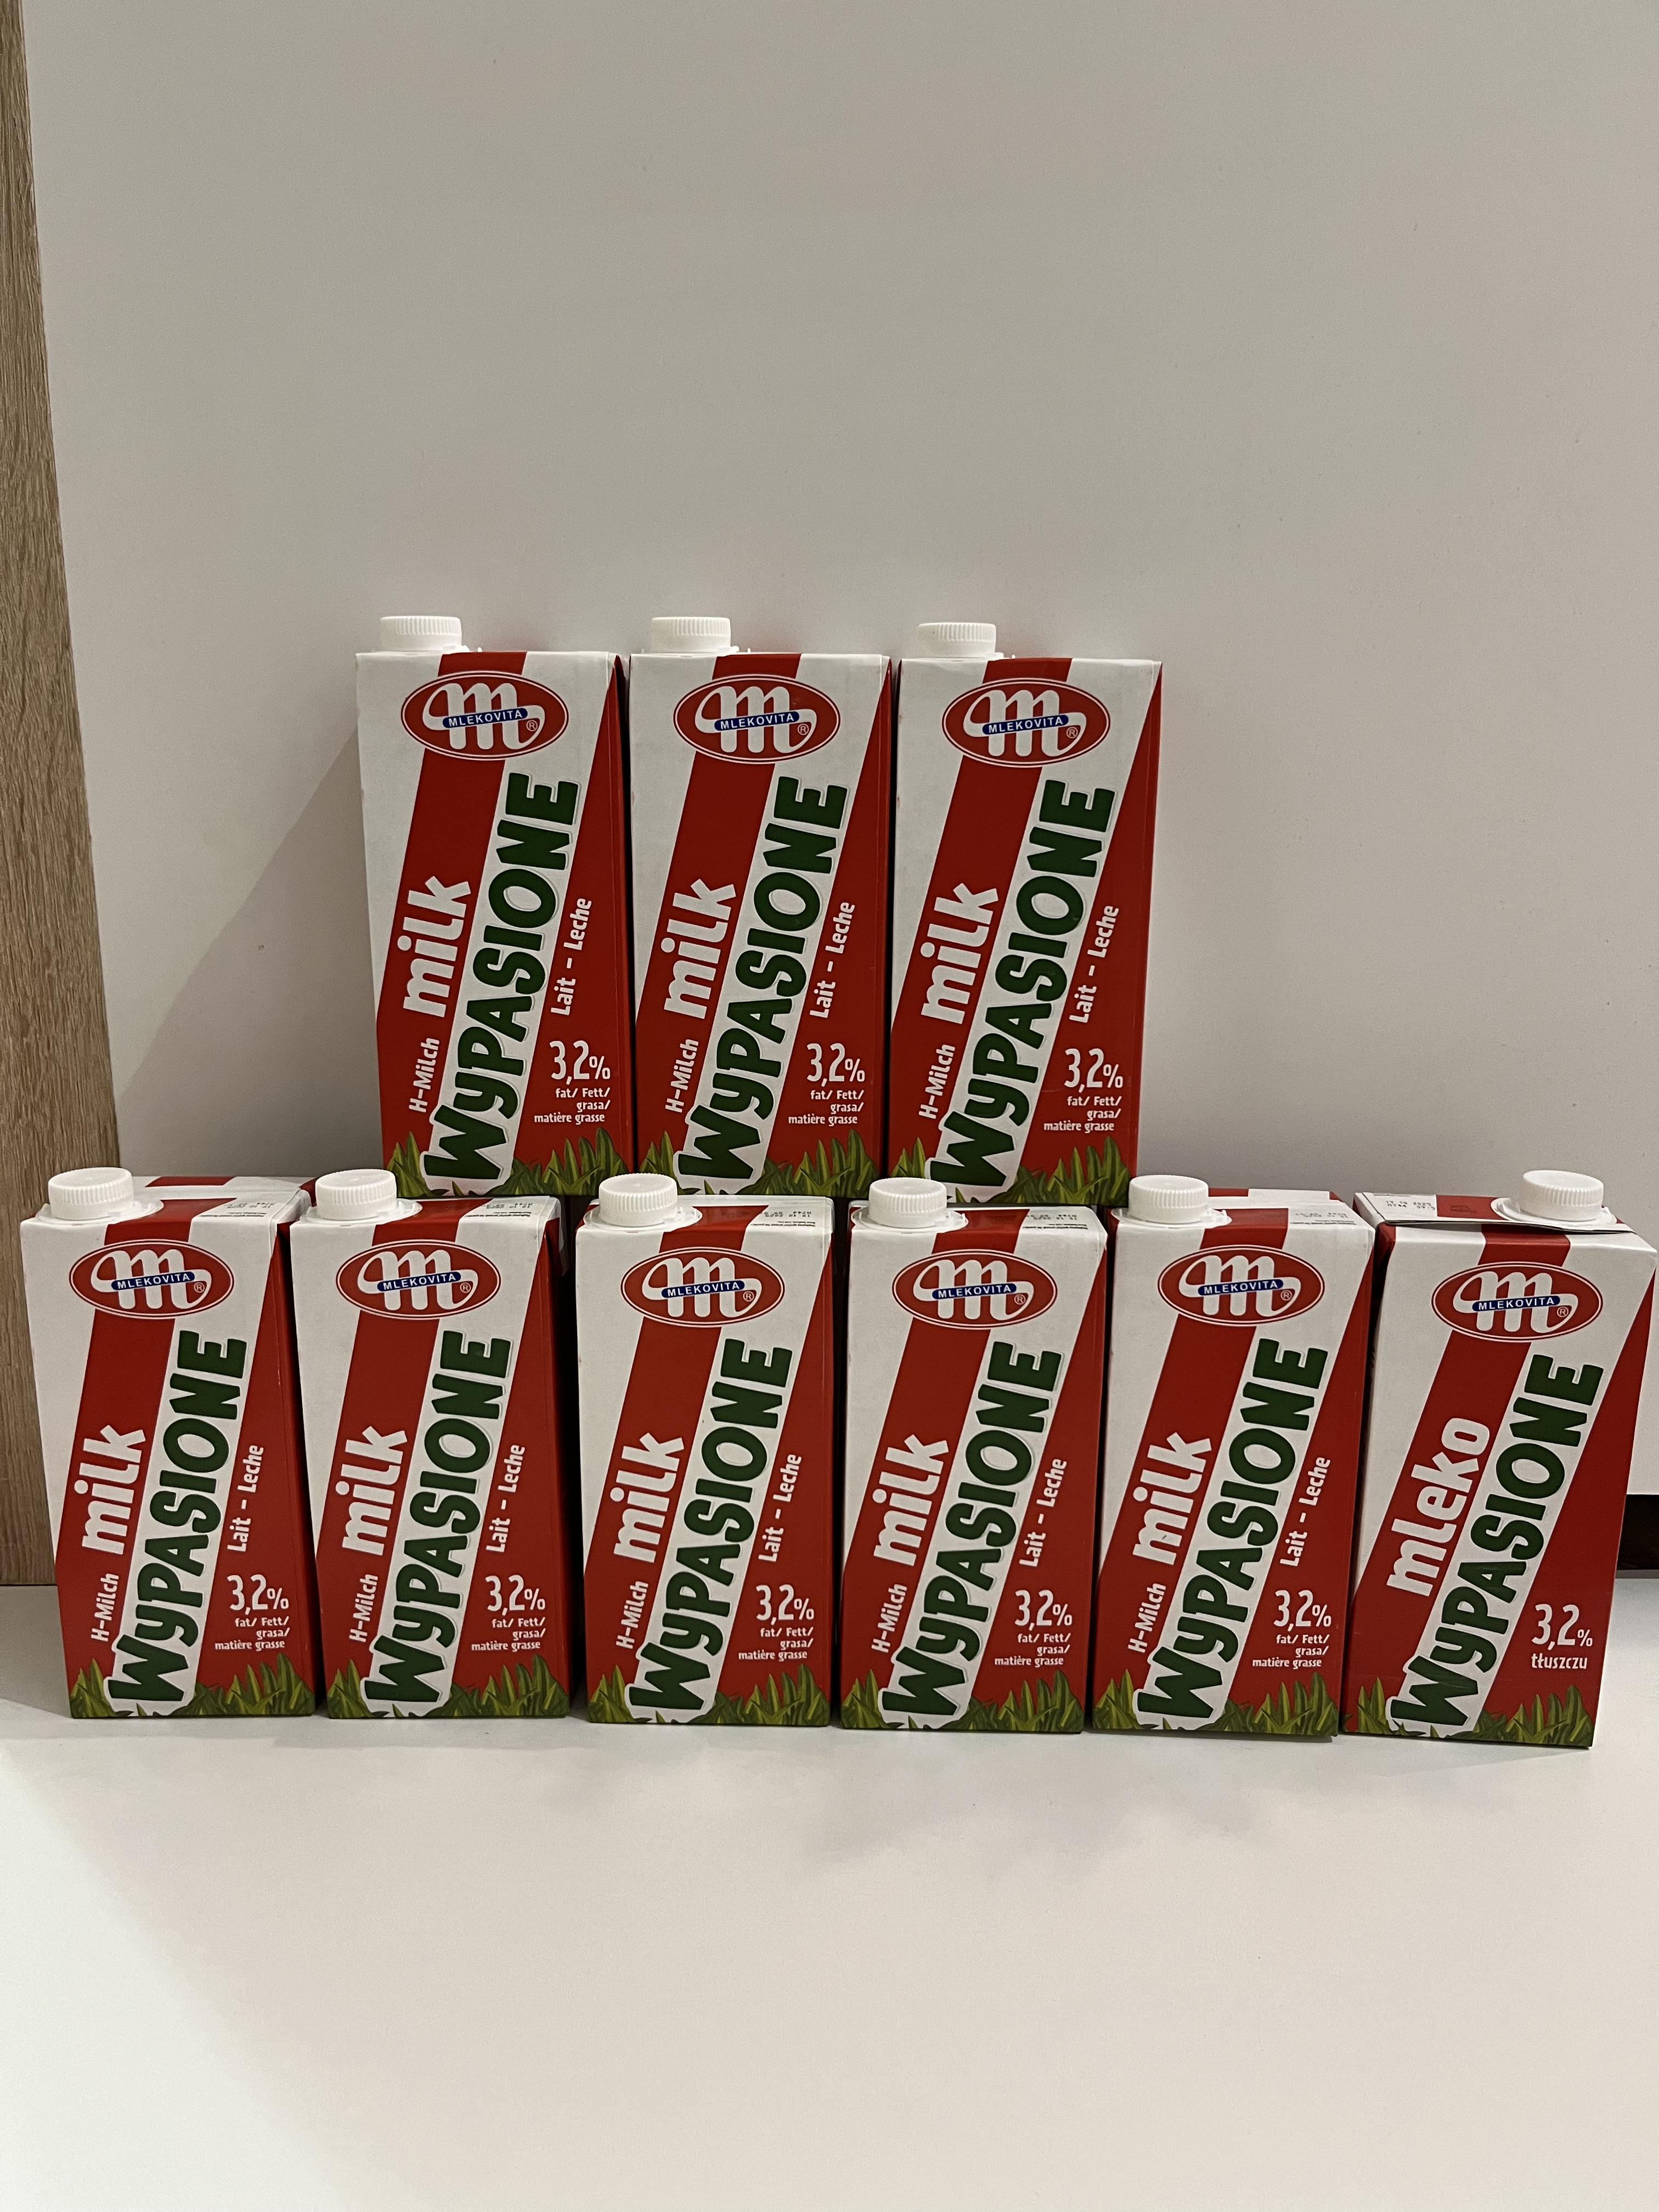Milk: (352, 643, 643, 1184), (286, 1195, 580, 1726), (38, 1214, 342, 1728), (1108, 1186, 1375, 1752), (1363, 1197, 1628, 1757), (620, 648, 901, 1172), (587, 1186, 840, 1726), (866, 1181, 1098, 1740), (899, 658, 1138, 1200)
